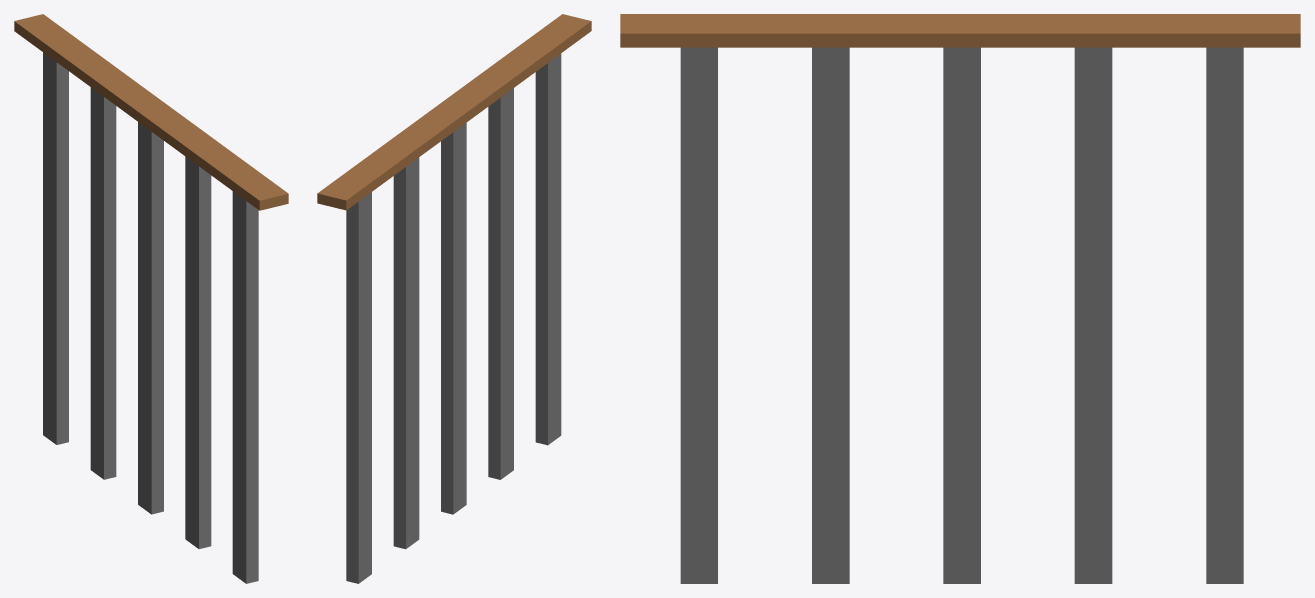
File: gelenderPart.fbx
3 renders of one model, left to right at view 1: azimuth 30°, elevation 25°; view 2: azimuth 150°, elevation 25°; view 3: azimuth 270°, elevation 25°, orthographic. The views are drawn at different scales.
Parts seen in each view (by area): view 1: Cube, Cube.001; view 2: Cube, Cube.001; view 3: Cube, Cube.001.
Boxes of the visible parts, box(x1,y1,x2,y2) form: Cube: box(43, 52, 258, 583); Cube.001: box(14, 14, 288, 210); Cube: box(346, 53, 561, 583); Cube.001: box(317, 14, 591, 210); Cube: box(680, 47, 1243, 583); Cube.001: box(620, 14, 1300, 47).
Size of the model in its own units: 27.04 by 356 by 395.
